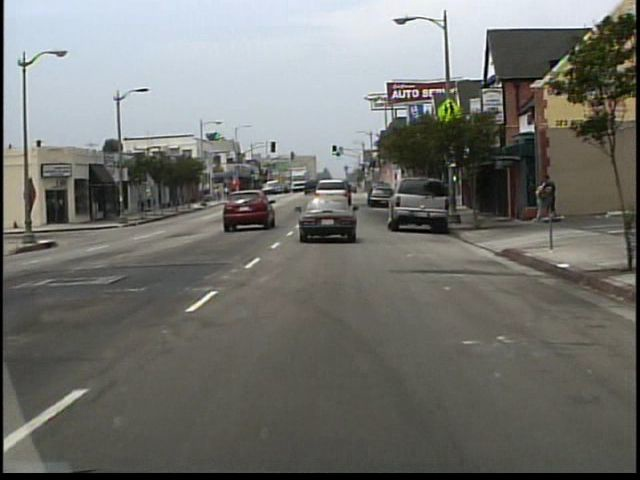person: (544, 175, 557, 222), (535, 179, 547, 224), (145, 188, 155, 214)
